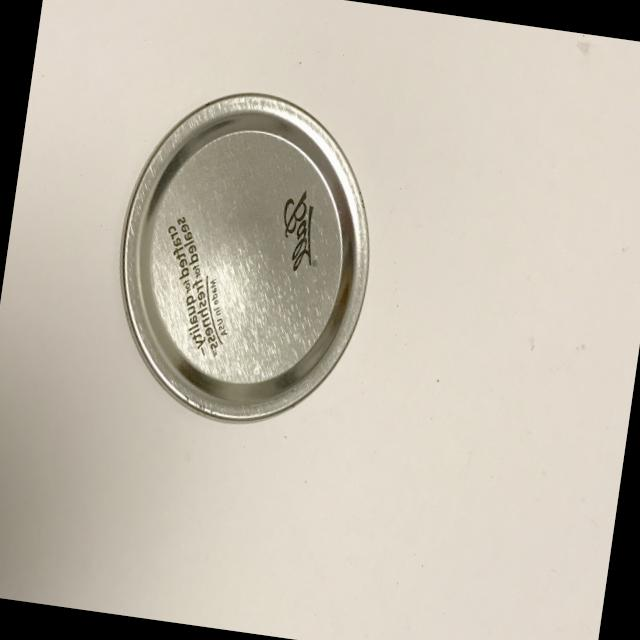Metal: (84, 46, 408, 457)
